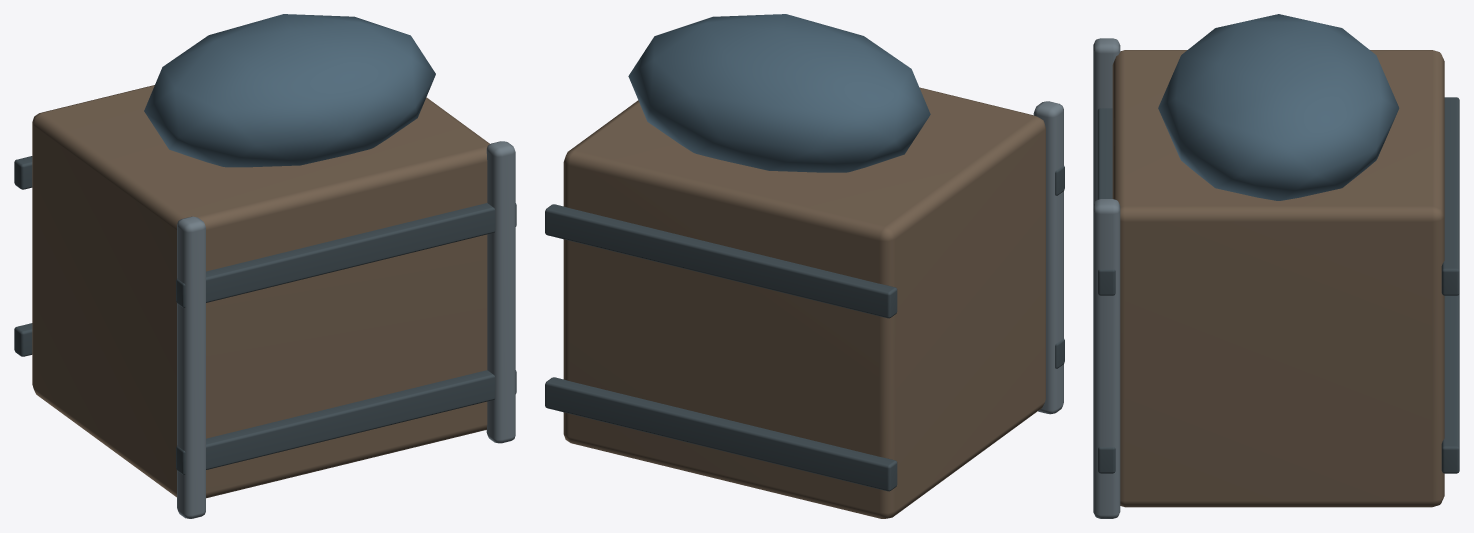
The model's file is supplies.glb.
3 renders of one model, left to right at view 1: azimuth 30°, elevation 25°; view 2: azimuth 150°, elevation 25°; view 3: azimuth 270°, elevation 25°, orthographic. The views are drawn at different scales.
Parts seen in each view (by area): view 1: Crate, Bag, Band.008, Band.006, Corner, Corner.001, Band.009, Band.007; view 2: Crate, Bag, Band.007, Band.009, Corner; view 3: Crate, Bag, Corner.001, Band.009, Band.007, Corner, Band.008, Band.006.
Boxes of the visible parts, bbox=[...] form: Crate: bbox=[32, 85, 489, 498]; Bag: bbox=[144, 14, 435, 167]; Band.008: bbox=[176, 203, 516, 307]; Band.006: bbox=[176, 370, 516, 474]; Corner: bbox=[177, 216, 205, 518]; Corner.001: bbox=[486, 141, 515, 443]; Band.009: bbox=[14, 156, 32, 189]; Band.007: bbox=[14, 323, 32, 356]; Crate: bbox=[563, 87, 1045, 518]; Bag: bbox=[628, 14, 930, 172]; Band.007: bbox=[545, 377, 897, 491]; Band.009: bbox=[545, 204, 897, 318]; Corner: bbox=[1033, 101, 1063, 414]; Crate: bbox=[1112, 50, 1444, 507]; Bag: bbox=[1158, 14, 1399, 200]; Corner.001: bbox=[1093, 199, 1120, 518]; Band.009: bbox=[1441, 97, 1459, 295]; Band.007: bbox=[1441, 294, 1459, 473]; Corner: bbox=[1093, 38, 1120, 204]; Band.008: bbox=[1097, 108, 1115, 295]; Band.006: bbox=[1098, 447, 1115, 473].
Bounding box in the file's own units: 1.36 × 1.48 × 1.21.
